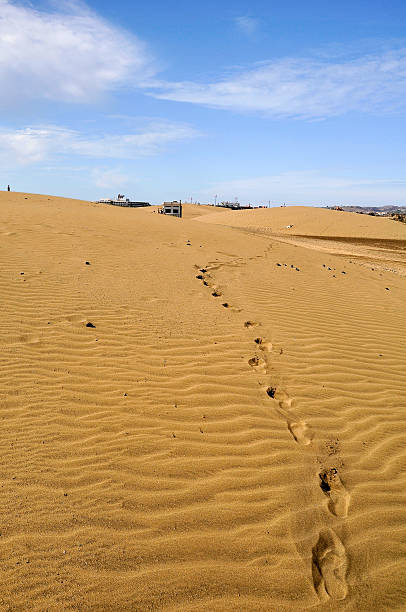human_foot_print: (312, 528, 348, 601), (275, 390, 312, 445), (319, 467, 349, 517), (250, 357, 269, 387), (220, 297, 246, 316), (252, 340, 284, 355), (199, 285, 226, 298), (237, 324, 272, 334)
